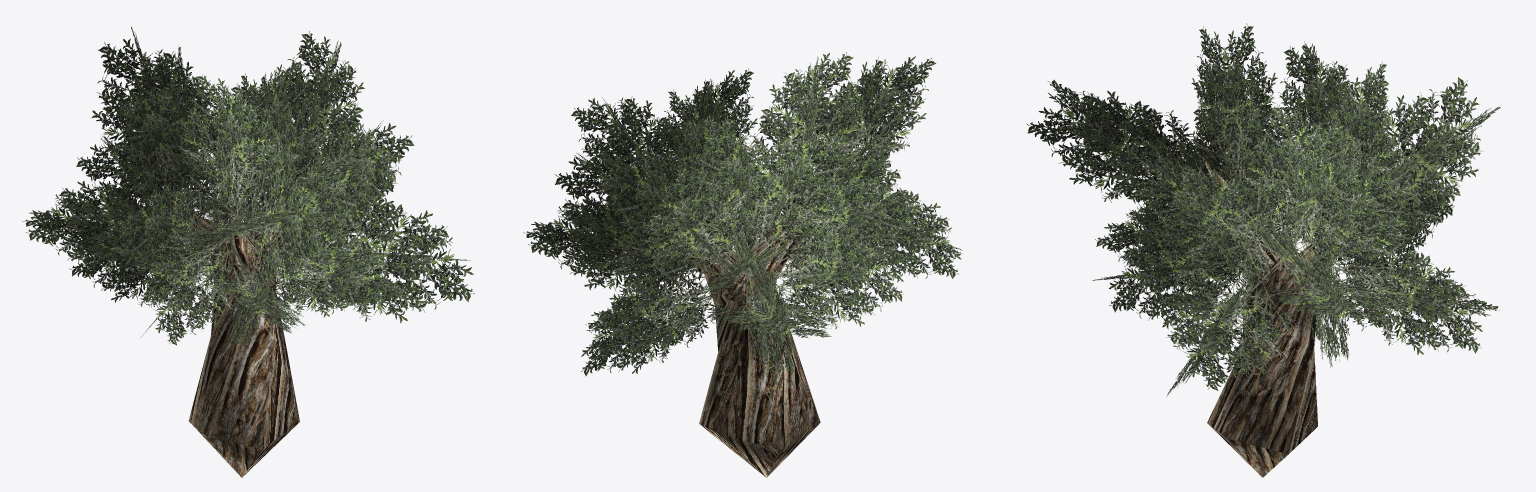
The model's file is OliveTree.dae.
3 views of the same model, side by side, from view 1: azimuth 30°, elevation 25°; view 2: azimuth 150°, elevation 25°; view 3: azimuth 270°, elevation 25° (orthographic). The views are drawn at different scales.
Parts seen in each view (by area): view 1: OliveTree; view 2: OliveTree; view 3: OliveTree.
Part boxes in pixels (left/top/right/bottom): OliveTree: left=22, top=27, right=474, bottom=477; OliveTree: left=523, top=52, right=962, bottom=477; OliveTree: left=1026, top=23, right=1500, bottom=477.
Size of the model in its own units: 1.04 by 1.11 by 1.18.
Materials: 1 (1 with a texture image).
